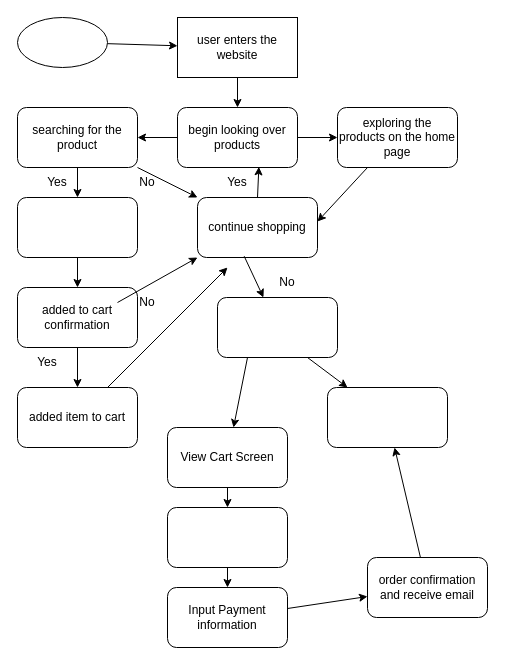
Some shapes in this 505 by 665 pixel diagram are drawn without their labels. The shapes that lost their labels are listed below. From the top down, each one's centre as x and y in pixels, then its label:
At point 62,42: "start".
At point 77,227: "viewing specific product".
At point 277,327: "checkout".
At point 387,417: "leave website (end)".
At point 227,537: "View Payment Screen".
